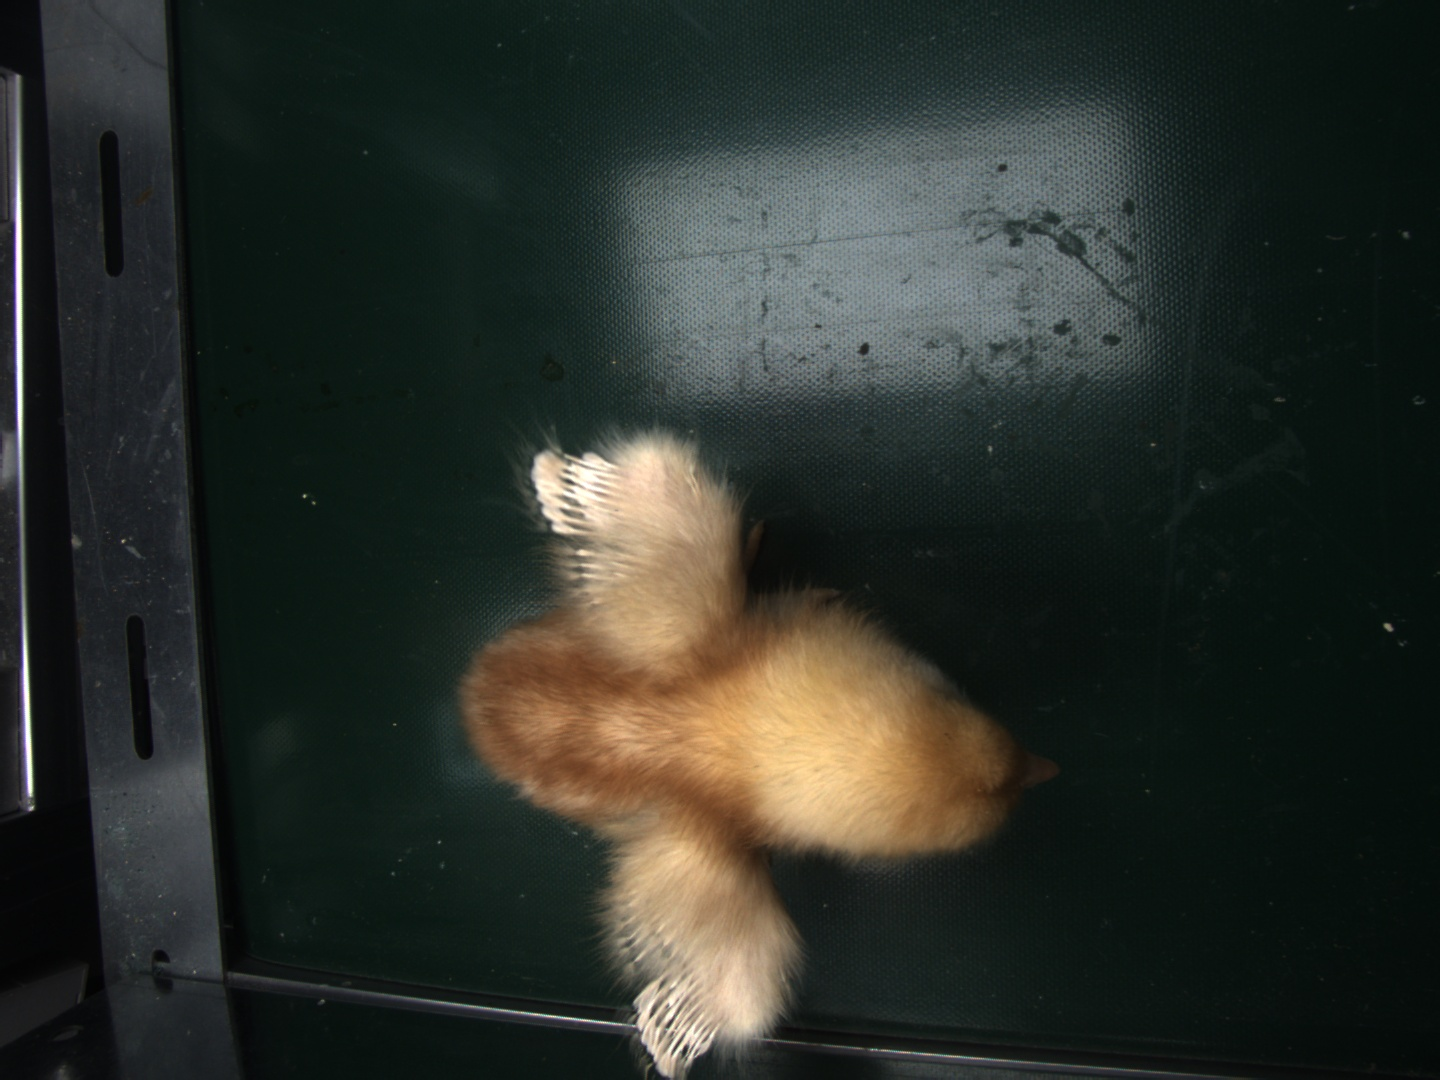female: (639, 976, 717, 1074), (533, 446, 615, 538)
